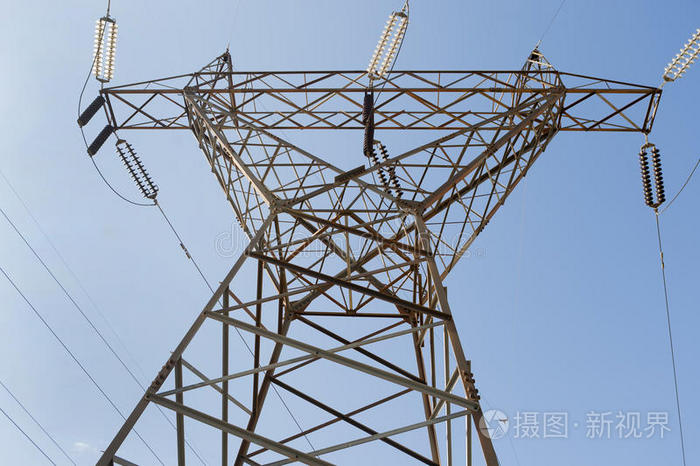insulator: (365, 16, 411, 78), (116, 142, 157, 197), (663, 32, 700, 79), (638, 147, 665, 204), (92, 21, 116, 80), (374, 148, 403, 193)
